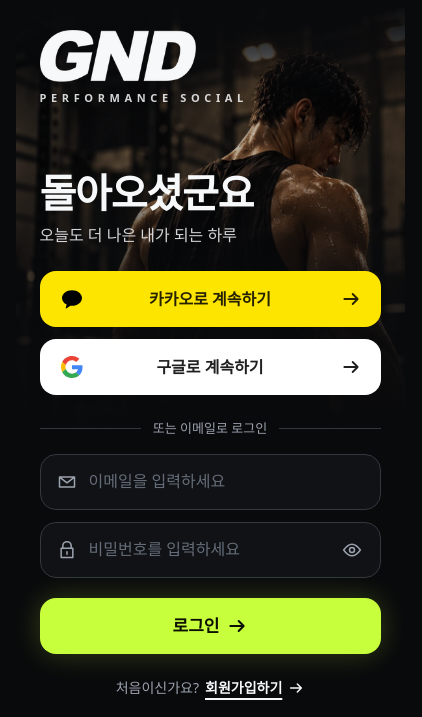
로그인 화면 › 새 시안 문구와 비밀번호 보기 버튼
Expected: the heading "돌아오셨군요" is shown, [40,165,253,220]
Expected: the text "오늘도 더 나은 내가 되는 하루" is shown, [40,224,237,246]
Click the button named "비밀번호 보기" at (352, 550), box [332,530,372,570]
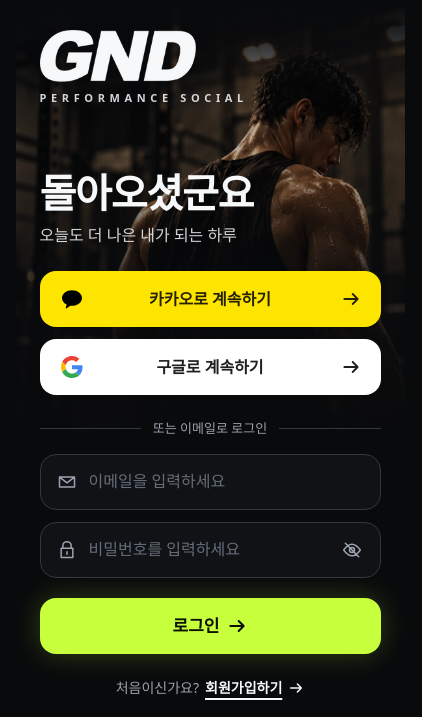
Now the button named "비밀번호 숨기기" is shown, box [332,530,372,570]
